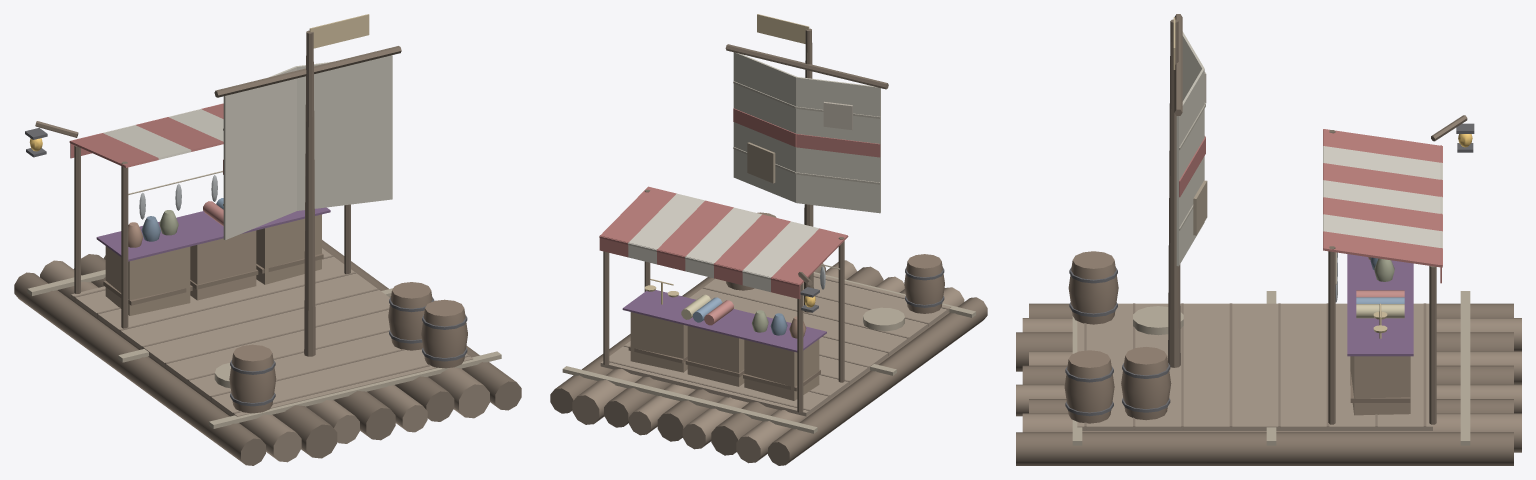
File: merchant_raft.gltf
3 renders of one model, left to right at view 1: azimuth 30°, elevation 25°; view 2: azimuth 150°, elevation 25°; view 3: azimuth 270°, elevation 25°, orthographic. The views are drawn at different scales.
Parts seen in each view (by area): view 1: Body; view 2: Body; view 3: Body.
Boxes of the visible parts, left/top/right/bottom form: Body: left=14, top=14, right=521, bottom=465; Body: left=550, top=14, right=987, bottom=465; Body: left=1016, top=14, right=1521, bottom=465.
Size of the model in its own units: 4.41 by 5.26 by 6.26.
